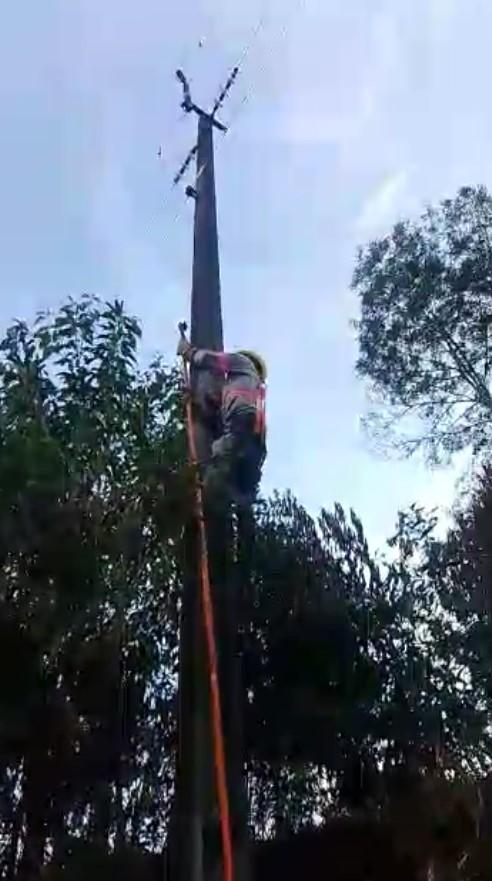Vara_Manobra: (175, 320, 235, 881)
